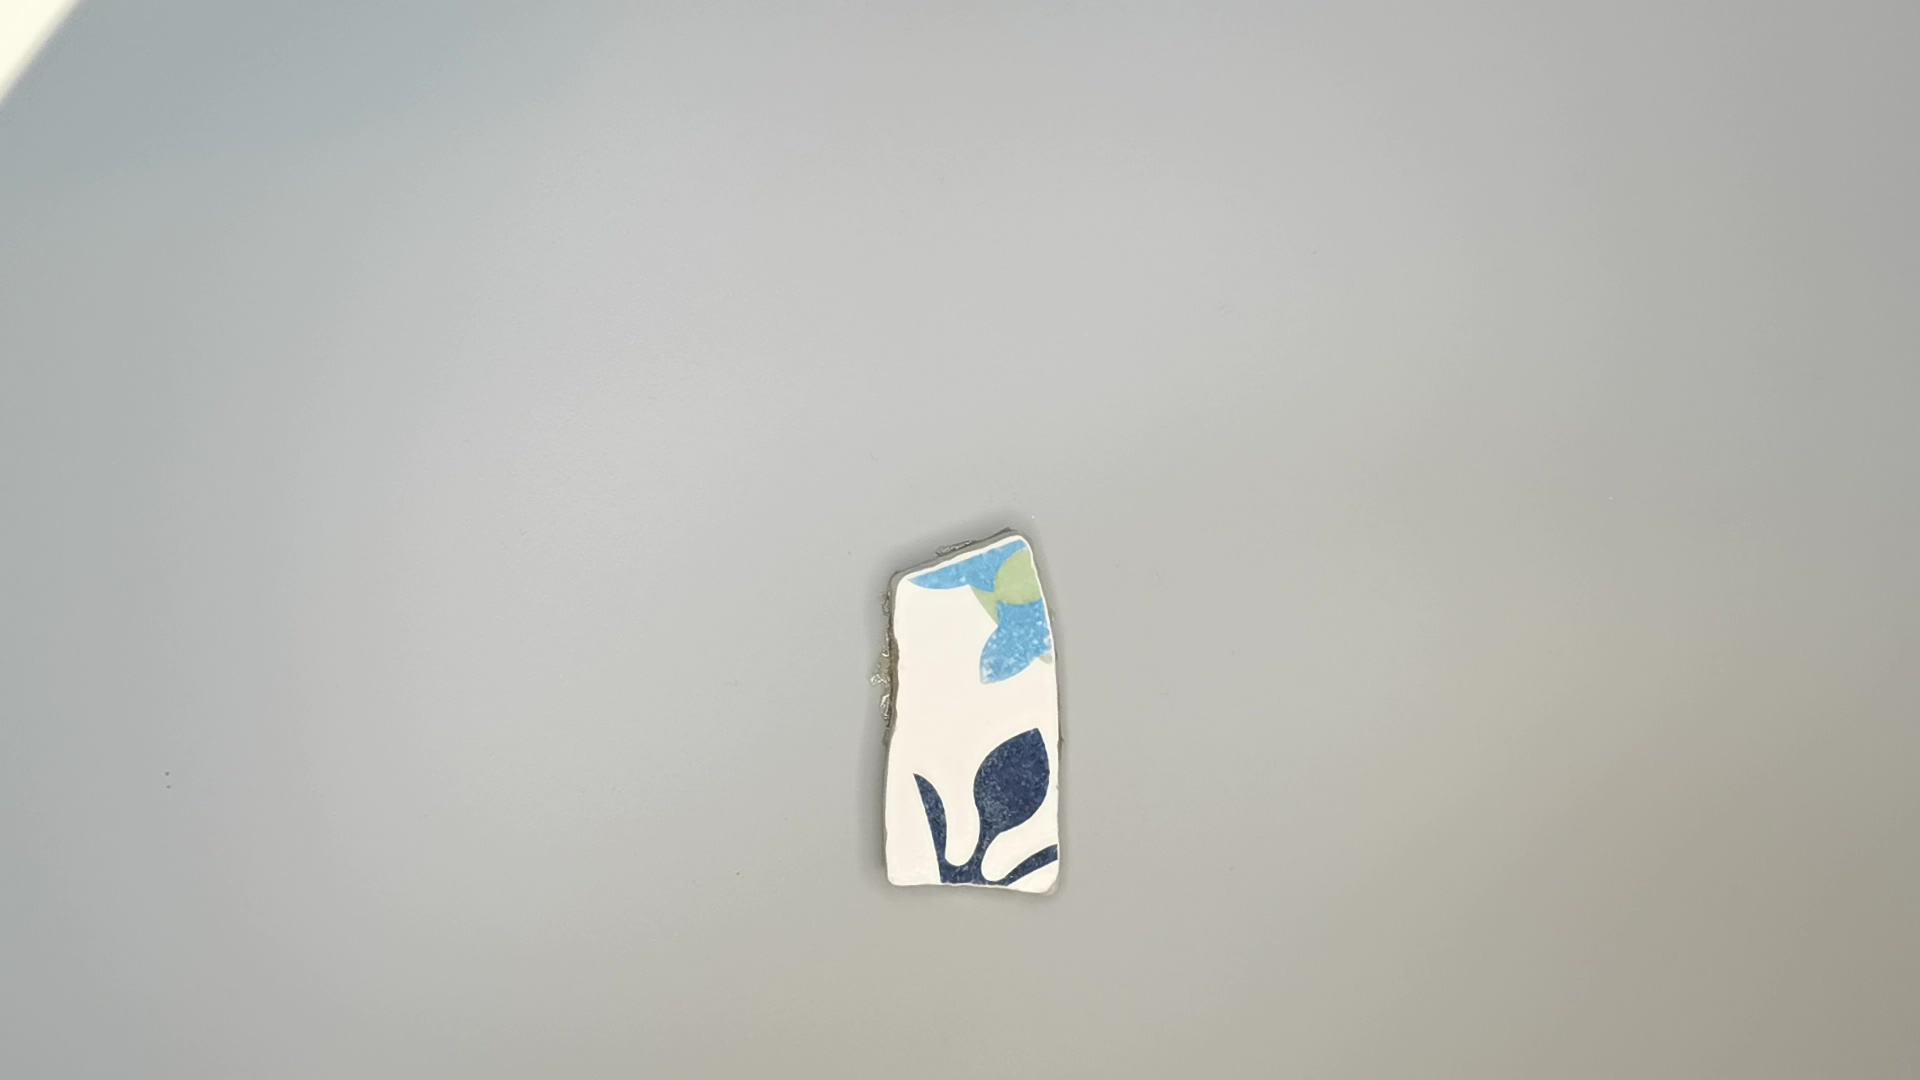ceramic: (869, 524, 1080, 905)
